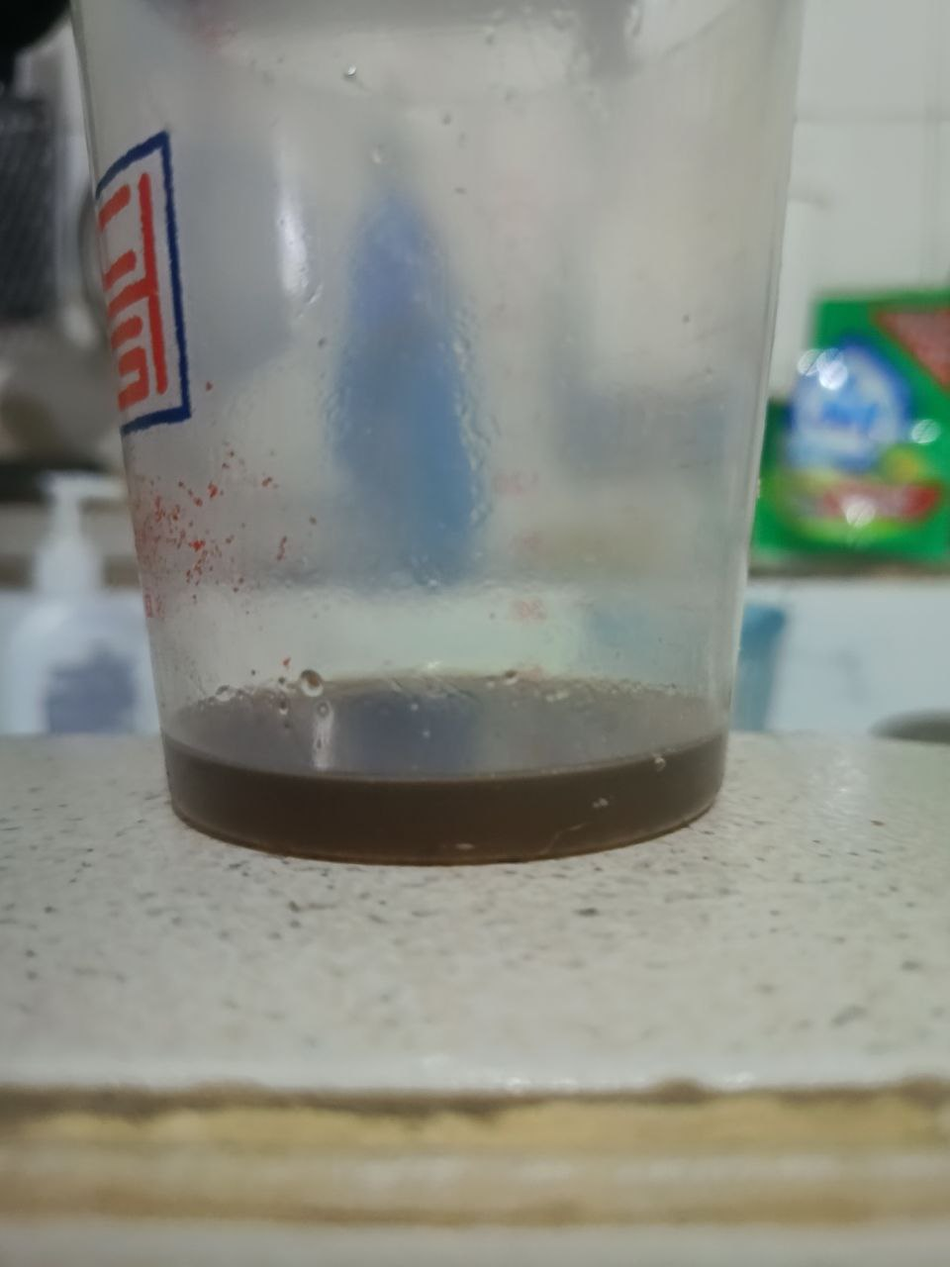non-reusable: (162, 676, 729, 868)
